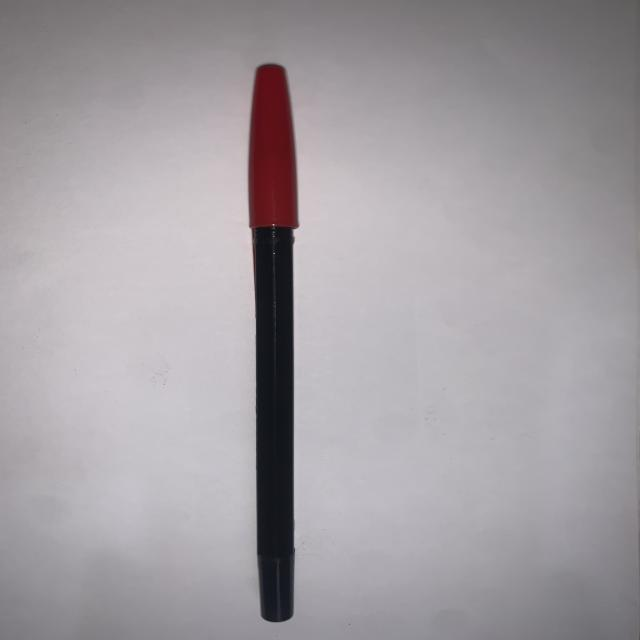Pulpen: (226, 61, 322, 632)
